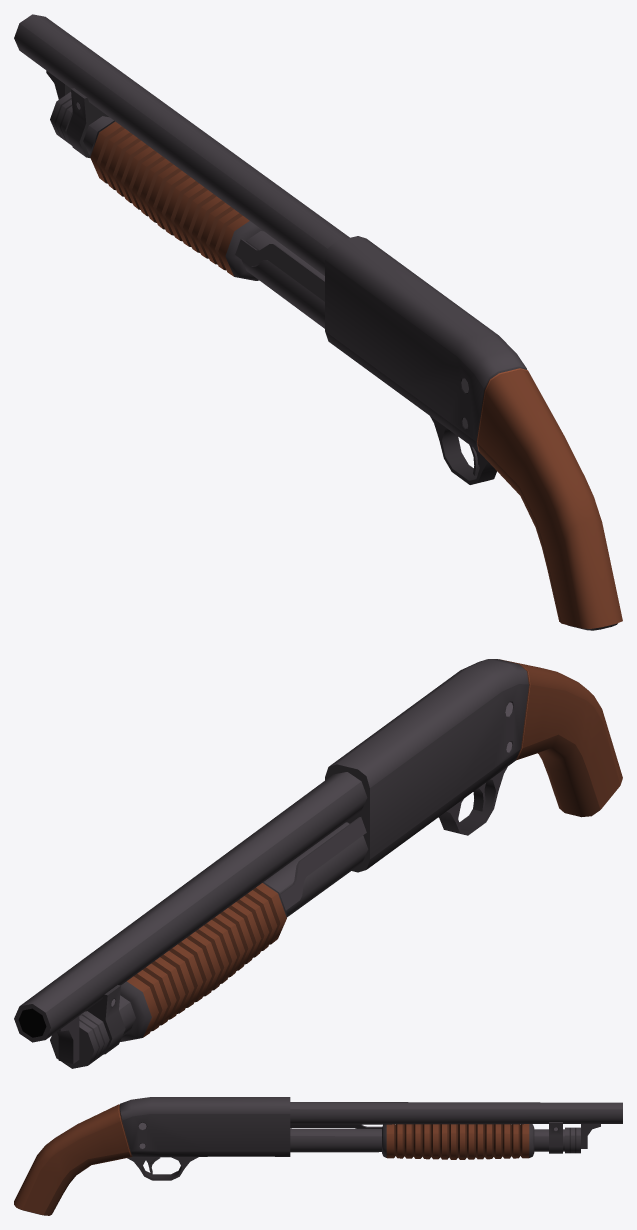
The model's file is shotgun.glb.
3 renders of one model, top to bottom at view 1: azimuth 30°, elevation 25°; view 2: azimuth 150°, elevation 25°; view 3: azimuth 270°, elevation 25°, orthographic. The views are drawn at different scales.
Parts seen in each view (by area): view 1: sawn off.001, pumpTranformNode; view 2: sawn off.001, pumpTranformNode; view 3: sawn off.001, pumpTranformNode.
Part boxes in pixels (left/top/right/bottom): sawn off.001: left=14, top=14, right=622, bottom=630; pumpTranformNode: left=90, top=120, right=324, bottom=301; sawn off.001: left=14, top=659, right=622, bottom=1068; pumpTranformNode: left=120, top=817, right=366, bottom=1041; sawn off.001: left=14, top=1097, right=622, bottom=1215; pumpTranformNode: left=290, top=1124, right=534, bottom=1159.
Bounding box in the file's own units: 0.119 × 0.359 × 1.75.
1 material, 1 textured.
